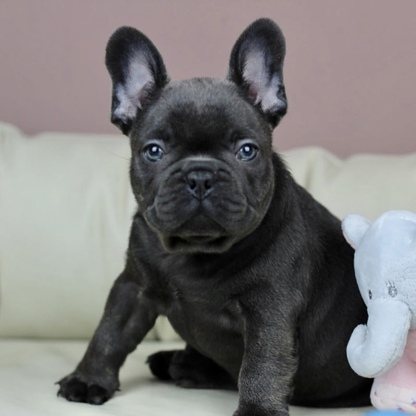bulldog: (69, 14, 376, 413)
